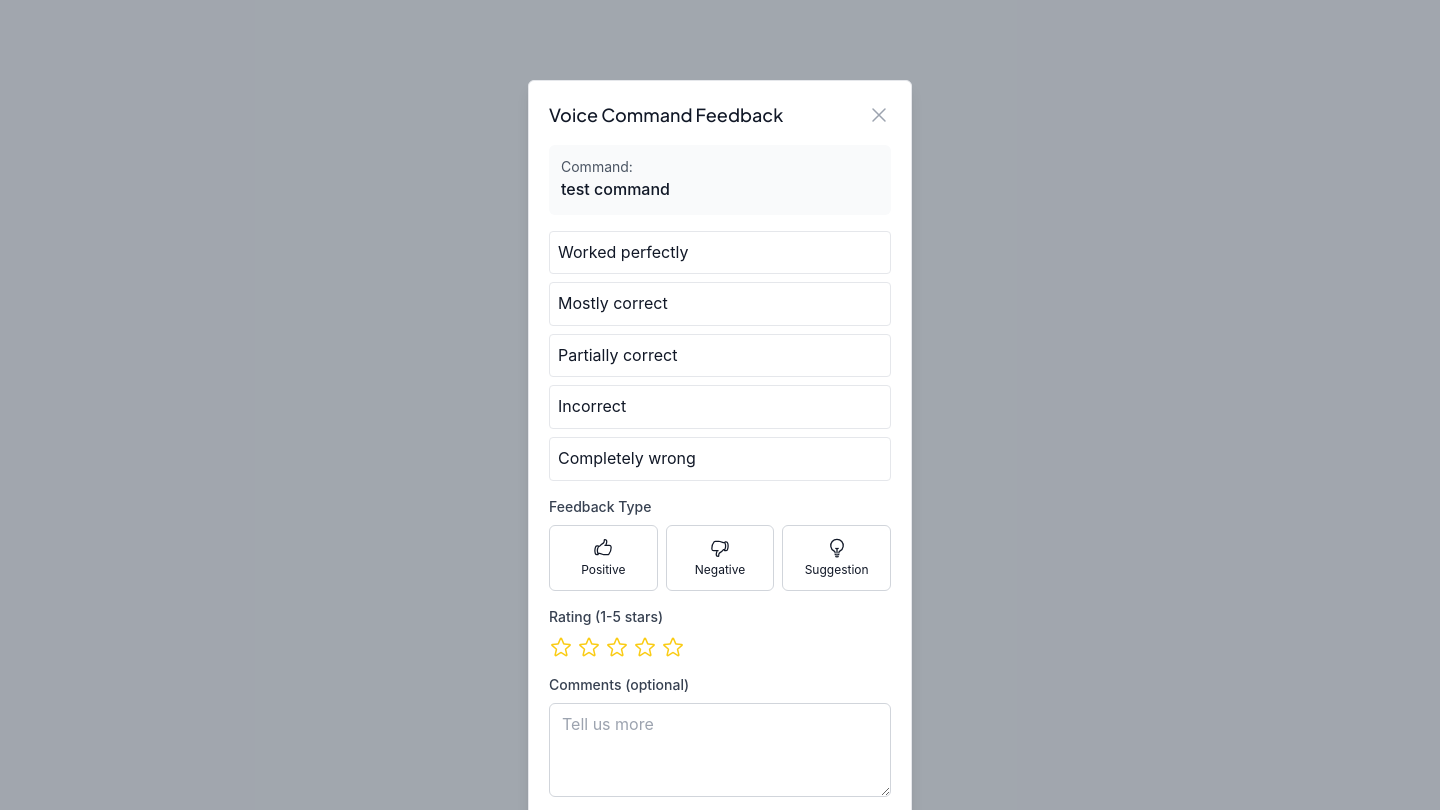
Test: VoiceFeedbackModal Debug › should debug button interactions and state changes
Click the button "Positive": click(603, 558) [549,525,658,591]
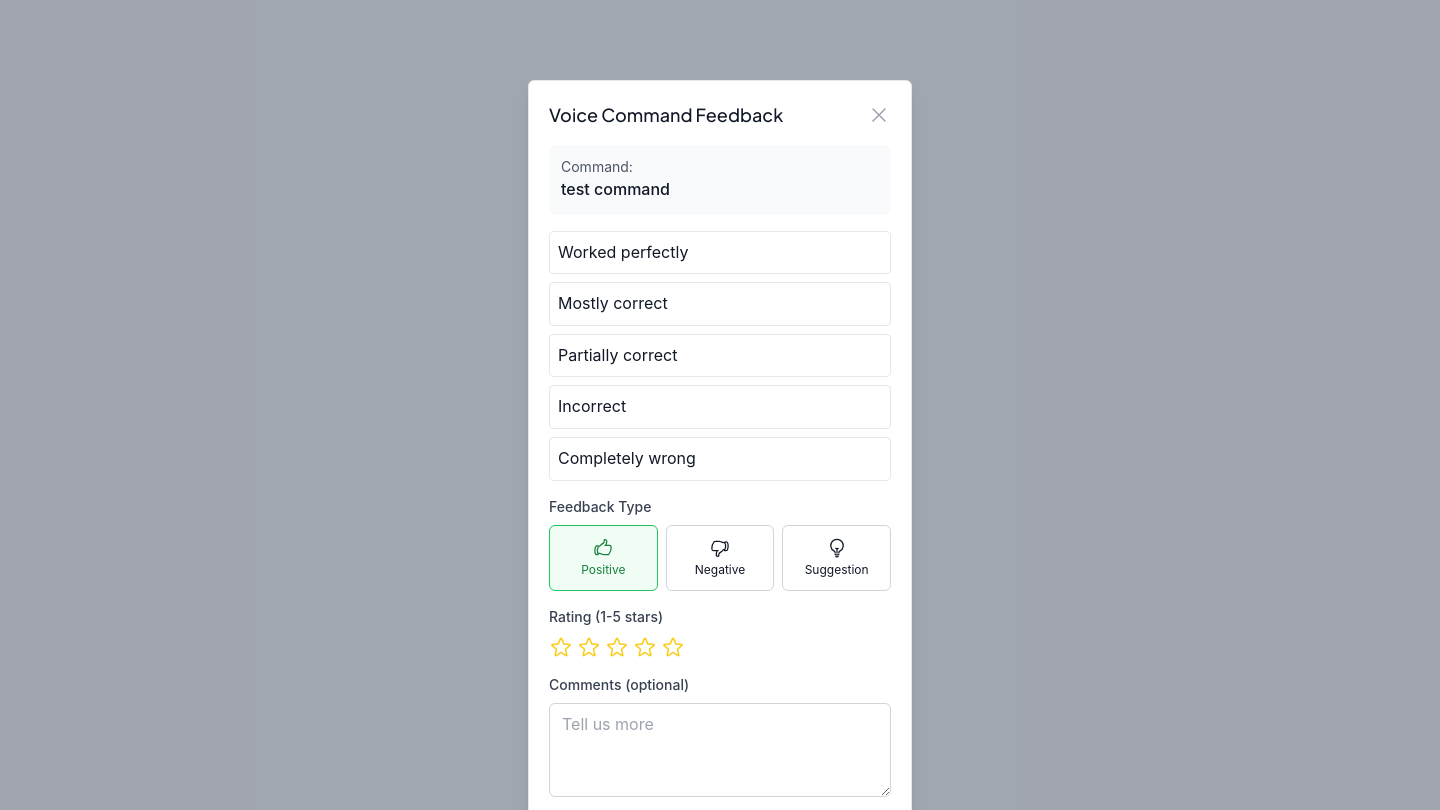
Click the button named "3 stars": click(617, 647) [605,635,629,659]
(page scrolled)
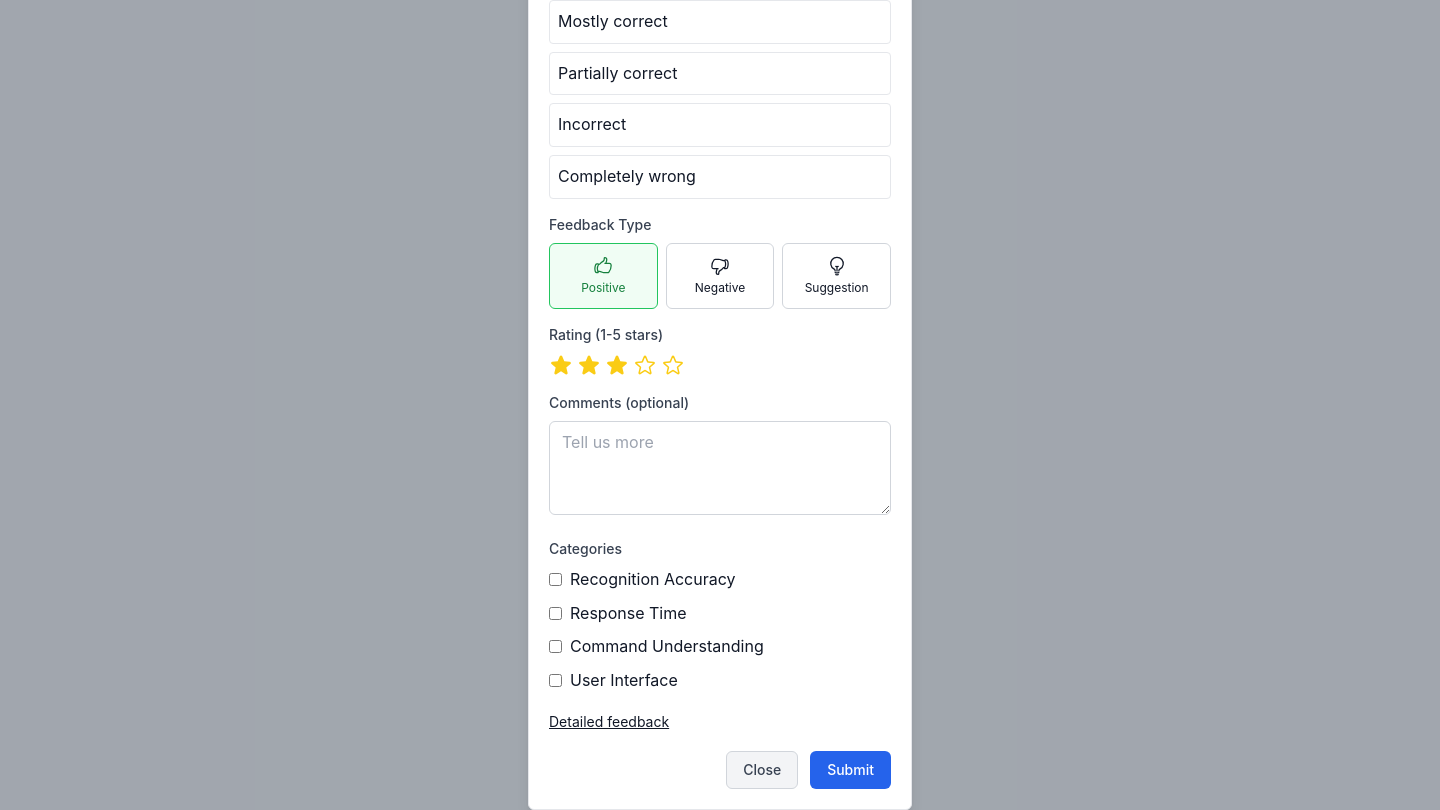
Click the button "Close": click(762, 770) [726,751,798,789]
(page scrolled)
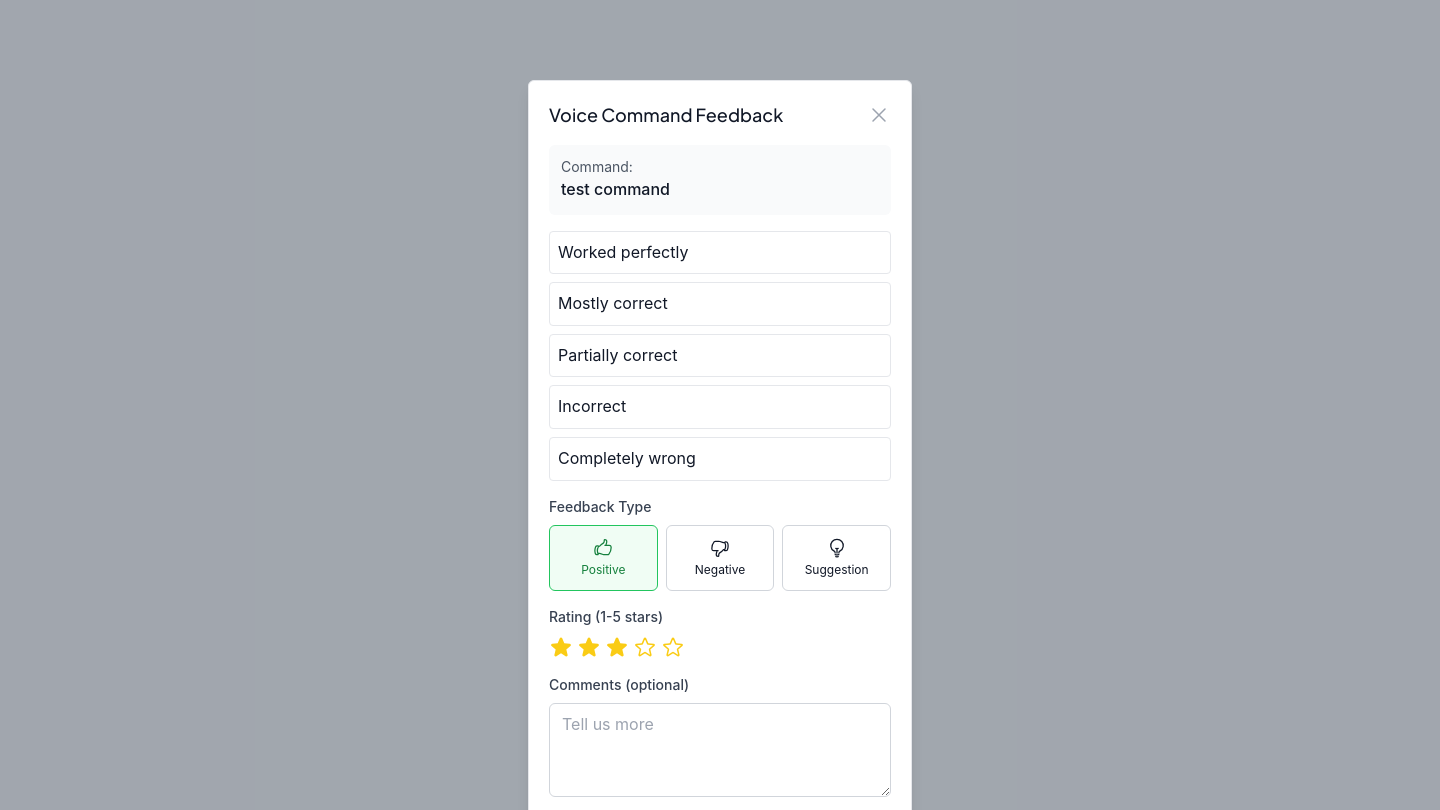
Expected: the text "Rating (1-5 stars)" is shown, [549,608,663,625]
Expected: the button named "Close" is shown, [867,103,891,127]
Expected: the text "Voice Command Feedback" is shown, [549,101,783,129]
